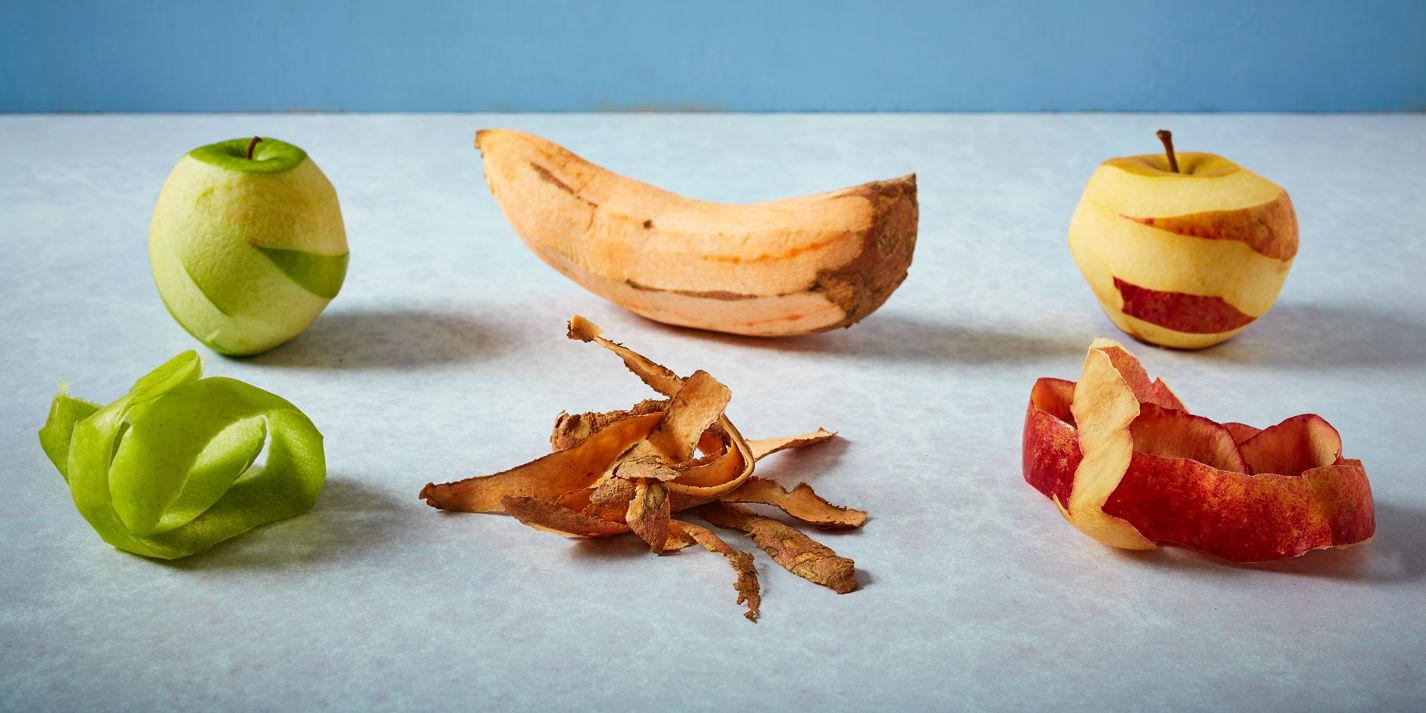organic: (416, 311, 873, 621), (474, 130, 921, 345), (1022, 338, 1378, 564), (39, 350, 328, 560), (1064, 130, 1298, 354), (147, 135, 348, 361)
